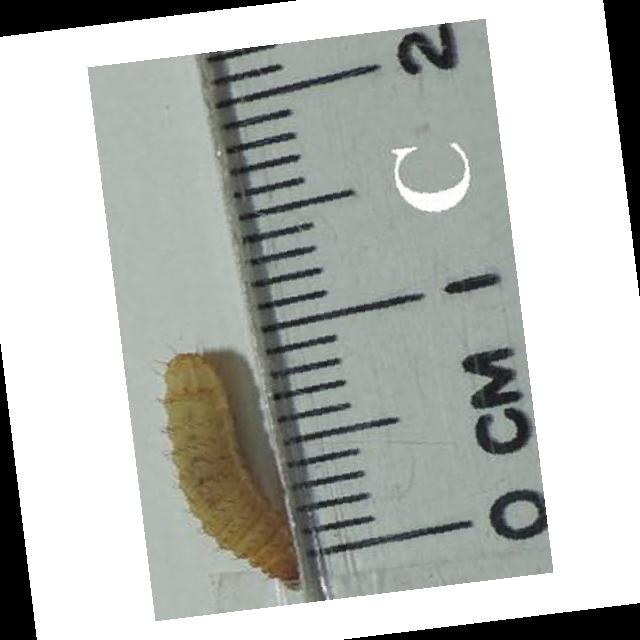Maggot: (162, 346, 306, 591)
